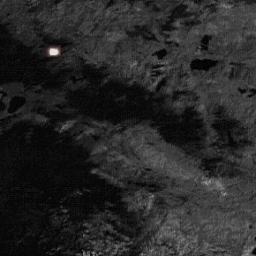Target: (48, 48, 57, 57)
